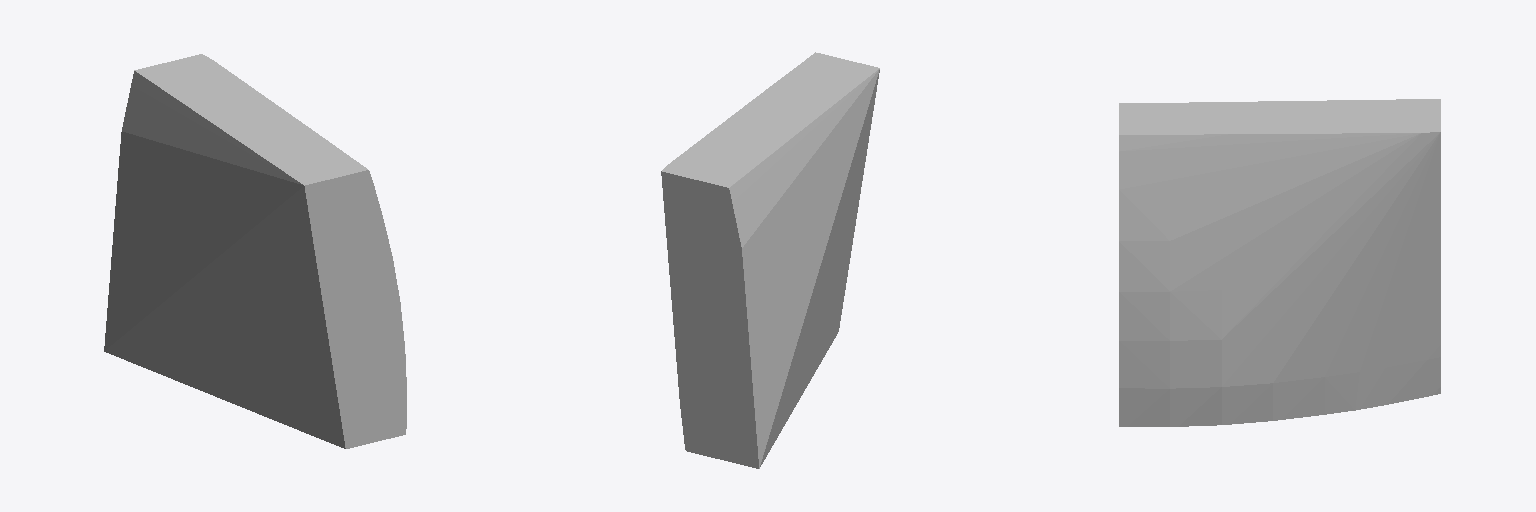
Rendered from phantom-elastrat_collision_630.obj.
3 renders of one model, left to right at view 1: azimuth 30°, elevation 25°; view 2: azimuth 150°, elevation 25°; view 3: azimuth 270°, elevation 25°, orthographic.
Size of the model in its own units: 0.0037 by 0.0068 by 0.0072.